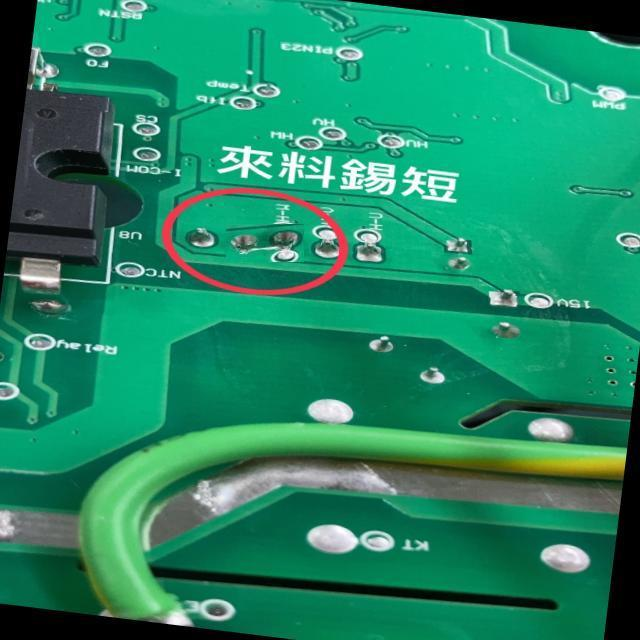damged: (226, 224, 304, 262)
